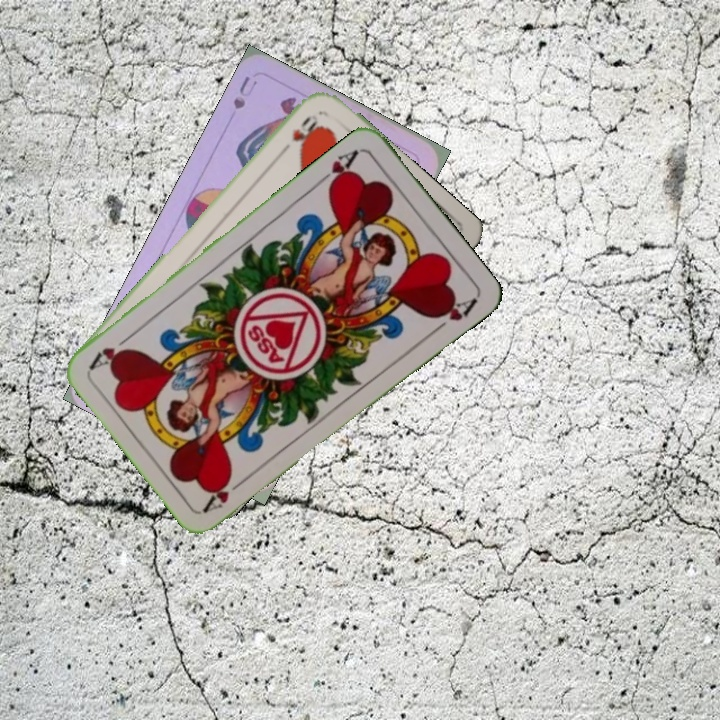HA: (313, 145, 362, 192), (199, 471, 250, 515)
HO: (277, 112, 322, 156)
SU: (229, 71, 260, 112)
